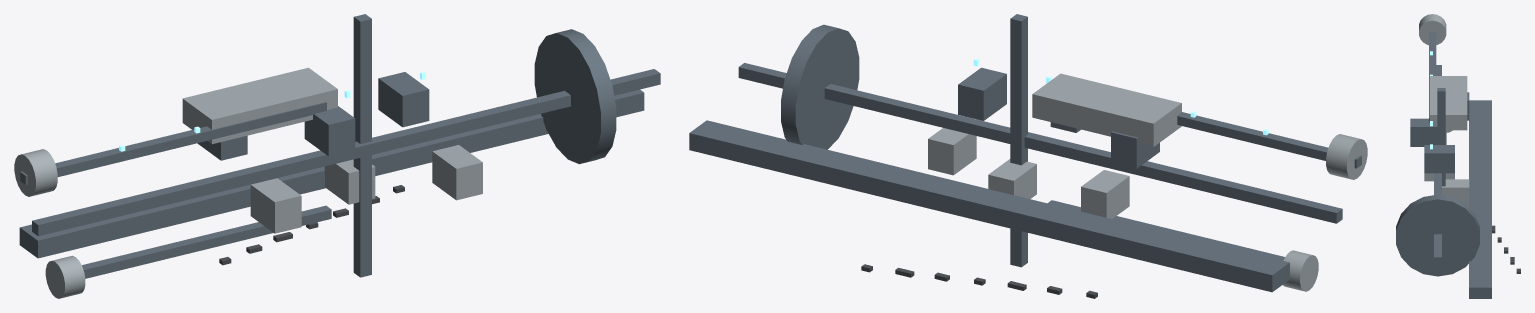
File: station-pluto.glb
3 views of the same model, side by side, from view 1: azimuth 30°, elevation 25°; view 2: azimuth 150°, elevation 25°; view 3: azimuth 270°, elevation 25° (orthographic). The views are drawn at different scales.
Visible parts, largest first — view 1: migration-freight-spine, truss-main, gate-primary, gantry-command, truss-cross, berth-arm-alpha, berth-arm-beta, cargo-module-2, cargo-module-5, cargo-module-6, cargo-module-3, docking-collar-alpha (+3 smaller); view 2: migration-freight-spine, truss-main, gate-primary, gantry-command, truss-cross, berth-arm-alpha, cargo-module-5, cargo-module-2, cargo-module-6, docking-collar-alpha, cargo-module-4, cargo-module-1 (+2 smaller); view 3: gate-primary, migration-freight-spine, gantry-command, cargo-module-5, cargo-module-3, docking-collar-alpha, truss-cross, cargo-module-4, truss-main, berth-arm-alpha, cargo-module-2.
Boxes of the visible parts, x1,y1,x2,y2 form: migration-freight-spine: [19, 89, 644, 258]; truss-main: [32, 69, 660, 236]; gate-primary: [534, 29, 616, 164]; gantry-command: [182, 67, 337, 144]; truss-cross: [353, 14, 371, 277]; berth-arm-alpha: [20, 102, 326, 184]; berth-arm-beta: [82, 205, 331, 278]; cargo-module-2: [250, 178, 301, 233]; cargo-module-5: [378, 72, 429, 127]; cargo-module-6: [432, 145, 482, 200]; cargo-module-3: [304, 106, 355, 156]; docking-collar-alpha: [14, 149, 57, 196]; migration-freight-spine: [689, 120, 1289, 292]; truss-main: [738, 63, 1342, 223]; gate-primary: [781, 24, 859, 149]; gantry-command: [1032, 73, 1181, 146]; truss-cross: [1010, 14, 1027, 267]; berth-arm-alpha: [1177, 112, 1361, 168]; cargo-module-5: [958, 67, 1006, 120]; cargo-module-2: [1081, 170, 1129, 218]; cargo-module-6: [928, 128, 976, 175]; docking-collar-alpha: [1326, 134, 1367, 179]; cargo-module-4: [988, 159, 1036, 198]; cargo-module-1: [1111, 131, 1159, 168]; gate-primary: [1396, 194, 1479, 276]; migration-freight-spine: [1469, 100, 1491, 298]; gantry-command: [1430, 76, 1467, 130]; cargo-module-5: [1424, 145, 1454, 173]; cargo-module-3: [1410, 118, 1437, 146]; docking-collar-alpha: [1419, 14, 1446, 45]; truss-cross: [1437, 88, 1445, 186]; cargo-module-4: [1442, 179, 1469, 206]; truss-main: [1434, 65, 1441, 264]; berth-arm-alpha: [1429, 32, 1436, 122]; cargo-module-2: [1424, 173, 1454, 181].
Bounding box in the file's own units: 13.4 × 5.04 × 3.52.
